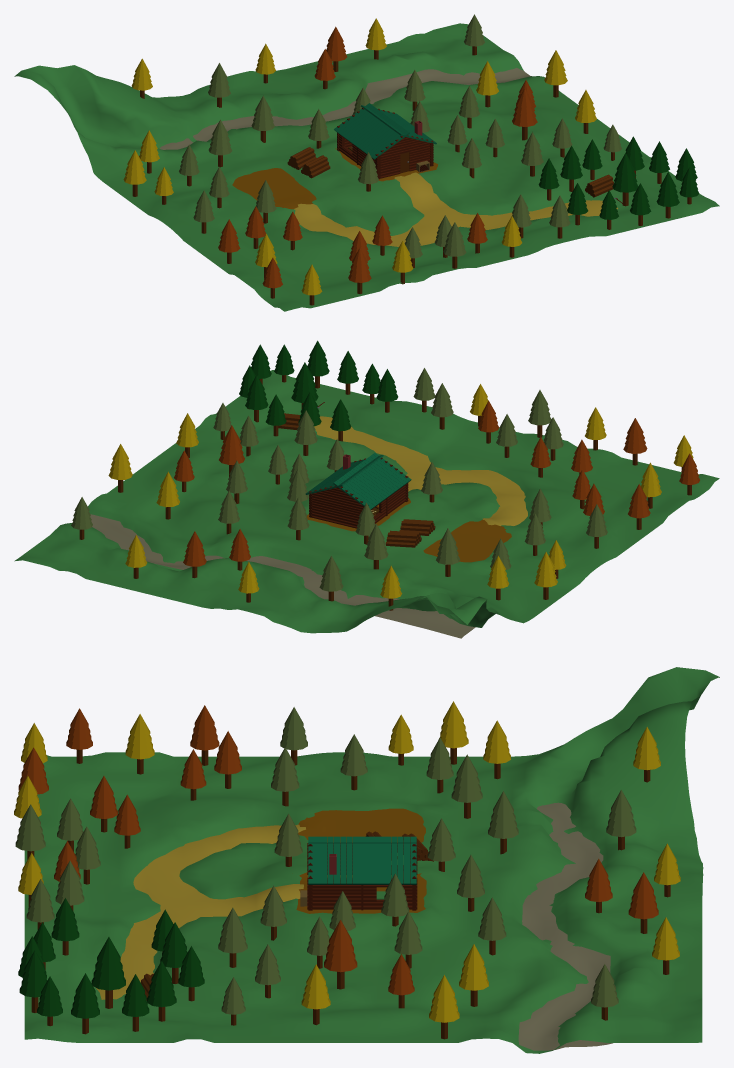
File: CabinTerrain.fbx
The picture shows the model from 3 angles, top to bottom: view 1: azimuth 30°, elevation 25°; view 2: azimuth 150°, elevation 25°; view 3: azimuth 270°, elevation 25°; orthographic projection. The views are drawn at different scales.
Visible parts, largest first — view 1: Terrain, Forest, CuttableTrees, Pathway, RiverBank, Roof, ConstructionLocation, FrontWall, ConstructionLogs, LeftWall; view 2: Terrain, Forest, CuttableTrees, Pathway, RiverBank, Roof, ConstructionLocation, BackWall, ConstructionLogs, LeftWall; view 3: Terrain, Forest, CuttableTrees, RiverBank, Pathway, Roof, ConstructionLocation, RightWall, Floor.
Boxes of the visible parts, left/top/right/bottom form: Terrain: left=14, top=23, right=719, bottom=311; Forest: left=123, top=14, right=621, bottom=305; CuttableTrees: left=538, top=136, right=699, bottom=229; Pathway: left=294, top=172, right=617, bottom=246; RiverBank: left=160, top=68, right=531, bottom=149; Roof: left=334, top=103, right=436, bottom=159; ConstructionLocation: left=232, top=168, right=316, bottom=209; FrontWall: left=375, top=135, right=433, bottom=178; ConstructionLogs: left=287, top=147, right=330, bottom=178; LeftWall: left=338, top=134, right=380, bottom=179; Terrain: left=14, top=370, right=719, bottom=633; Forest: left=71, top=368, right=699, bottom=610; CuttableTrees: left=239, top=340, right=398, bottom=441; Pathway: left=314, top=416, right=527, bottom=525; RiverBank: left=90, top=514, right=475, bottom=638; Roof: left=305, top=453, right=411, bottom=509; ConstructionLocation: left=423, top=519, right=511, bottom=562; BackWall: left=309, top=485, right=368, bottom=528; ConstructionLogs: left=386, top=519, right=435, bottom=547; LeftWall: left=363, top=484, right=406, bottom=523; Terrain: left=24, top=667, right=719, bottom=1053; Forest: left=14, top=701, right=680, bottom=1039; CuttableTrees: left=18, top=898, right=204, bottom=1034; RiverBank: left=518, top=802, right=612, bottom=1050; Pathway: left=95, top=824, right=305, bottom=999; Roof: left=308, top=836, right=416, bottom=884; ConstructionLocation: left=298, top=808, right=425, bottom=842; RightWall: left=307, top=877, right=417, bottom=910; Floor: left=296, top=872, right=426, bottom=913.
Size of the model in its own units: 25.9 by 4.23 by 26.04.
